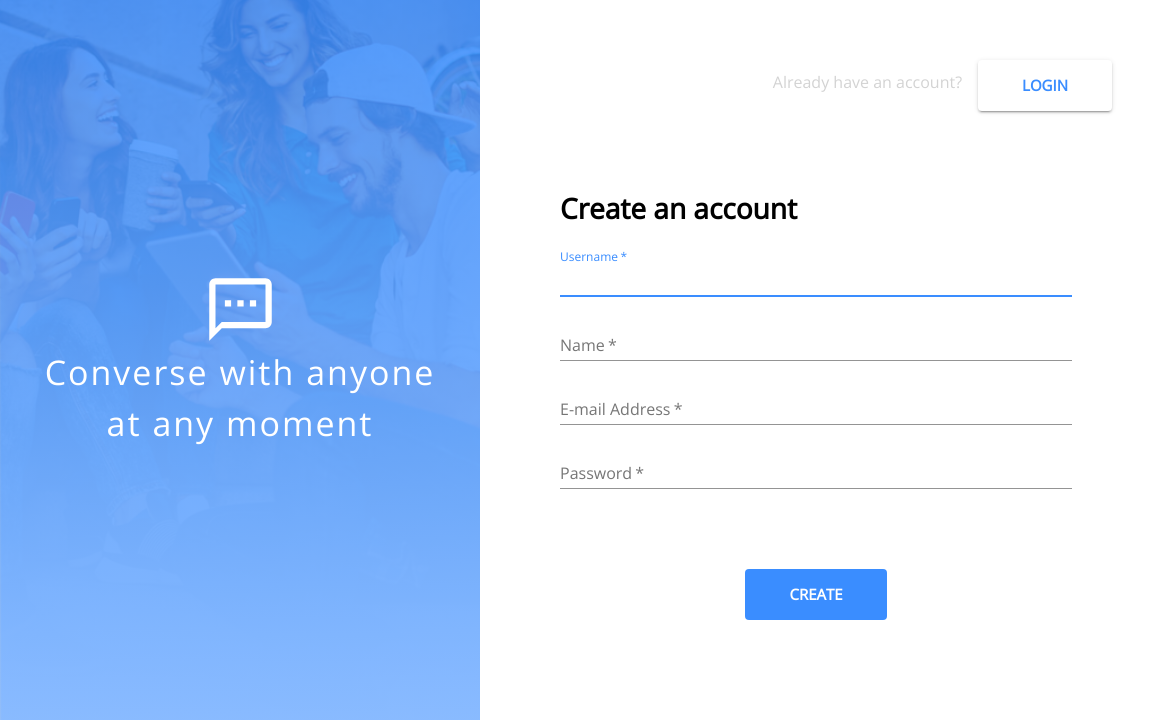
it: Register Page › Check if redirect to login button works
Click the button with id "change-to-login-button". click: point(1045, 86)
box: [978,61,1112,111]
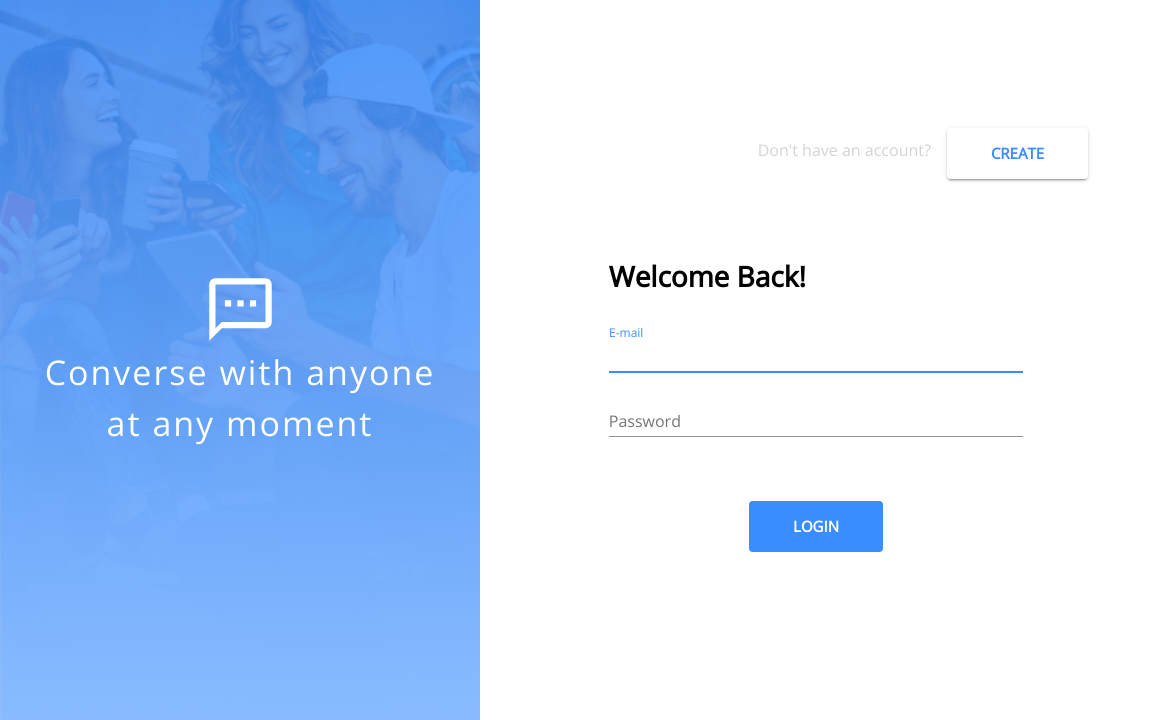
Now the text "Welcome Back!" is shown, box [609,257,806,295]
